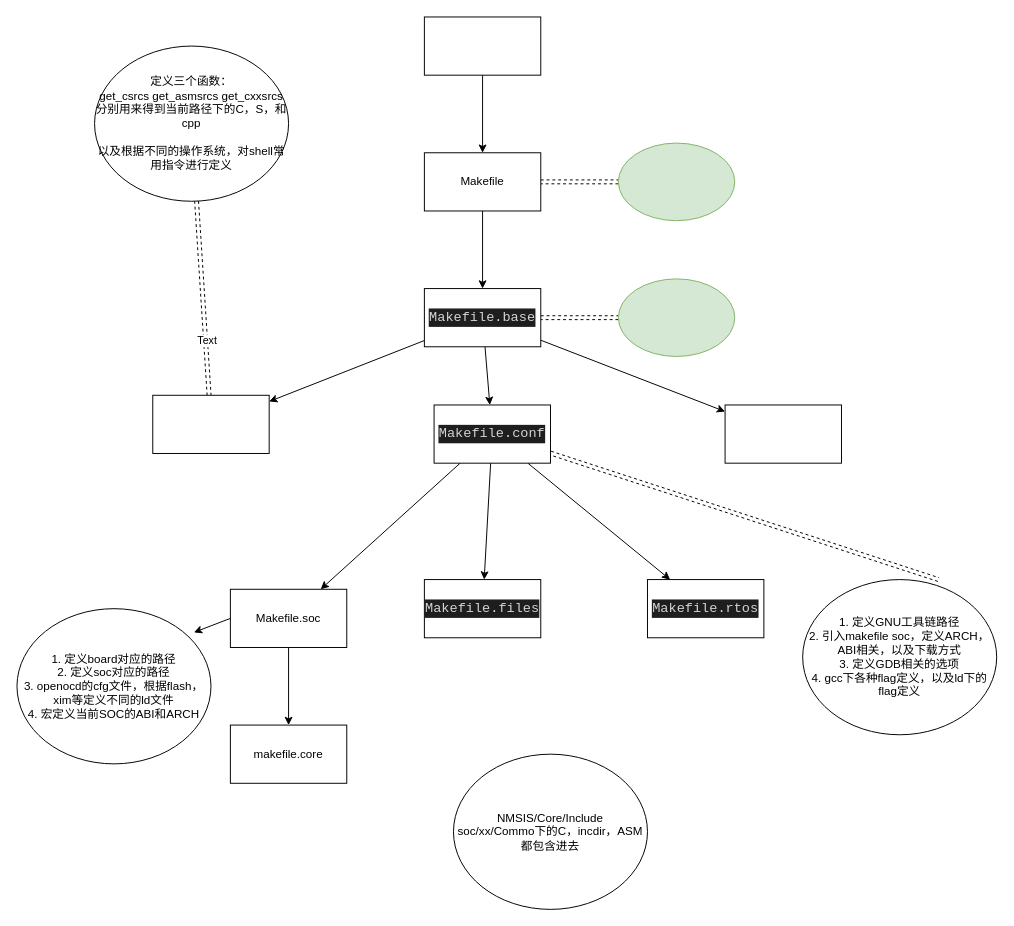
Image size: 1014x926. Some labels were removed from this diagram. Here are the shapes that lost their labels. From the top down, the centre of each, then its label:
At point 482,45: "Application".
At point 676,181: "TARGET HBIRD_SDK_ROOT".
At point 676,317: "常用的选项，比如： SOC BOARD 等".
At point 210,423: "Makefile.misc".
At point 782,433: "Makefile.rules".
